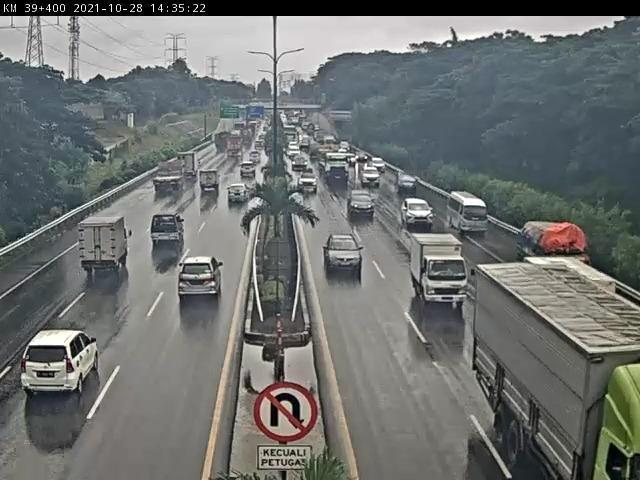Bus: (446, 190, 496, 238)
